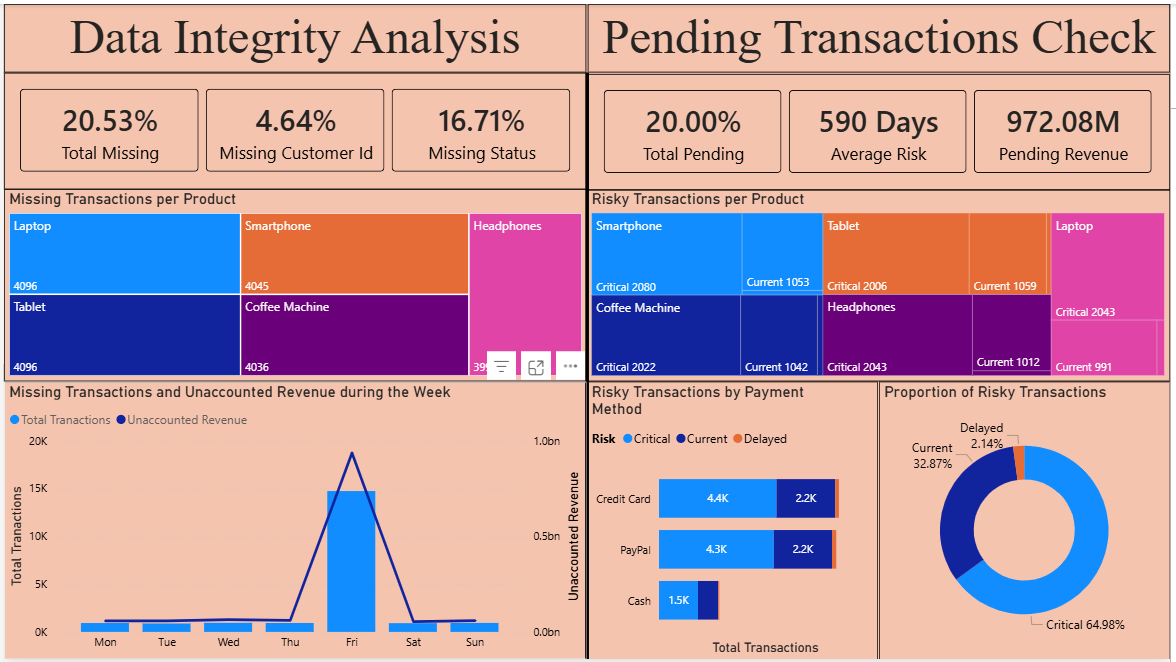

What the dashboard file says about the page in this screenshot:
{"tool":"powerbi","page":{"name":"Integrity and Operations ","canvas":[1280,720],"ordinal":1},"visuals":[{"type":"textbox","box":[0,0,639.5,75.5],"z":0},{"type":"cardVisual","fields":{"Data":["_Cal_Audit_Pending.TotMissing","_Cal_Audit.MissCustId","_Cal_Audit_Pending.MissingStatus"]},"box":[0,75.5,640.8,127.6],"z":1000},{"type":"textbox","box":[640.8,0,639.5,75.5],"z":2000},{"type":"shape","box":[634,75.5,12.3,644.9],"z":3000},{"type":"cardVisual","fields":{"Data":["_Cal_Audit_Pending.%pending","_Cal_Audit_Pending.AvgRisk","_Cal_Audit_Pending.Pending Revenue"]},"box":[640.8,76.8,639.5,127.6],"z":4000},{"type":"treemap","title":"Missing Transactions per Product","fields":{"Group":["transactions data_quality_audit.product_name"],"Values":["CountNonNull(transactions data_quality_audit.product_name)"]},"box":[0,203.1,640.8,211.3],"z":5000},{"type":"lineStackedColumnComboChart","title":"Missing Transactions and Unaccounted Revenue during the Week","fields":{"Category":["Calendar.DayOfWeek"],"Y":["_Cal_Audit_Pending.TotAudit"],"Y2":["_Cal_Audit_Pending.Unaccounted Revenue"]},"box":[0,414.4,639.5,306],"z":6000},{"type":"barChart","title":"Risky Transactions by Payment Method","fields":{"Category":["pending.payment_method"],"Y":["_Cal_Audit_Pending.TotPending"],"Series":["pending.RiskBucket"]},"box":[639.5,414.4,319.7,306],"z":7000},{"type":"donutChart","title":"Proportion of Risky Transactions","fields":{"Category":["pending.RiskBucket"],"Y":["_Cal_Audit_Pending.TotPending"]},"box":[960.6,414.4,319.7,306],"z":8000},{"type":"treemap","title":"Risky Transactions per Product","fields":{"Group":["pending.product_name"],"Values":["CountNonNull(pending.customer_id)"],"Details":["pending.RiskBucket"]},"box":[639.5,203.1,640.8,211.3],"z":9000}]}

Visuals, with their boxes in screenshot pixels (x1, y1, x2, y2), scaled from the page's 1280x720 canvas onto the 1176x662 screenshot:
textbox: (x1=0, y1=0, x2=588, y2=69)
cardVisual - _Cal_Audit_Pending.TotMissing x _Cal_Audit.MissCustId: (x1=0, y1=69, x2=589, y2=187)
textbox: (x1=589, y1=0, x2=1175, y2=69)
shape: (x1=582, y1=69, x2=594, y2=661)
cardVisual - _Cal_Audit_Pending.%pending x _Cal_Audit_Pending.AvgRisk: (x1=589, y1=71, x2=1175, y2=188)
"Missing Transactions per Product" treemap: (x1=0, y1=187, x2=589, y2=381)
"Missing Transactions and Unaccounted Revenue during the Week" lineStackedColumnComboChart: (x1=0, y1=381, x2=588, y2=661)
"Risky Transactions by Payment Method" barChart: (x1=588, y1=381, x2=881, y2=661)
"Proportion of Risky Transactions" donutChart: (x1=883, y1=381, x2=1175, y2=661)
"Risky Transactions per Product" treemap: (x1=588, y1=187, x2=1175, y2=381)
